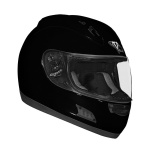Helmet: (15, 13, 134, 141)
